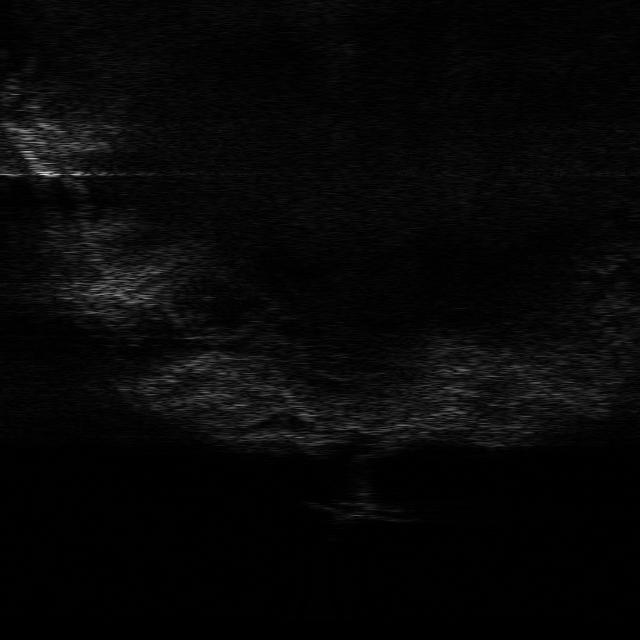plane: (302, 496, 410, 525)
